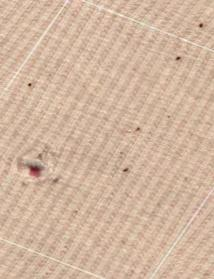hole: (17, 152, 56, 187)
stain: (114, 158, 141, 184), (166, 51, 194, 76), (190, 15, 214, 36), (130, 120, 153, 141), (21, 75, 44, 93)
